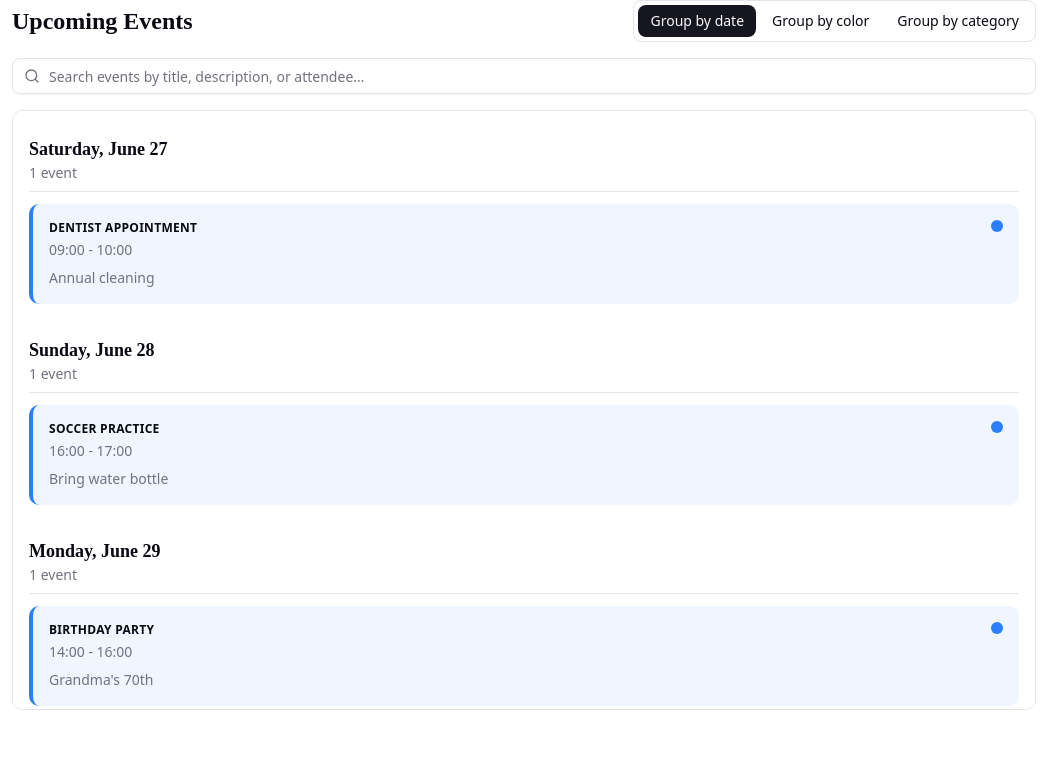
AgendaCalendar › Search › shows a 'no matches' empty state when the query filters out every event
Type "nothing-matches-this" into the search field with placeholder "Search events by title, description, or attendee…" at (524, 76), box [12,58,1036,94]
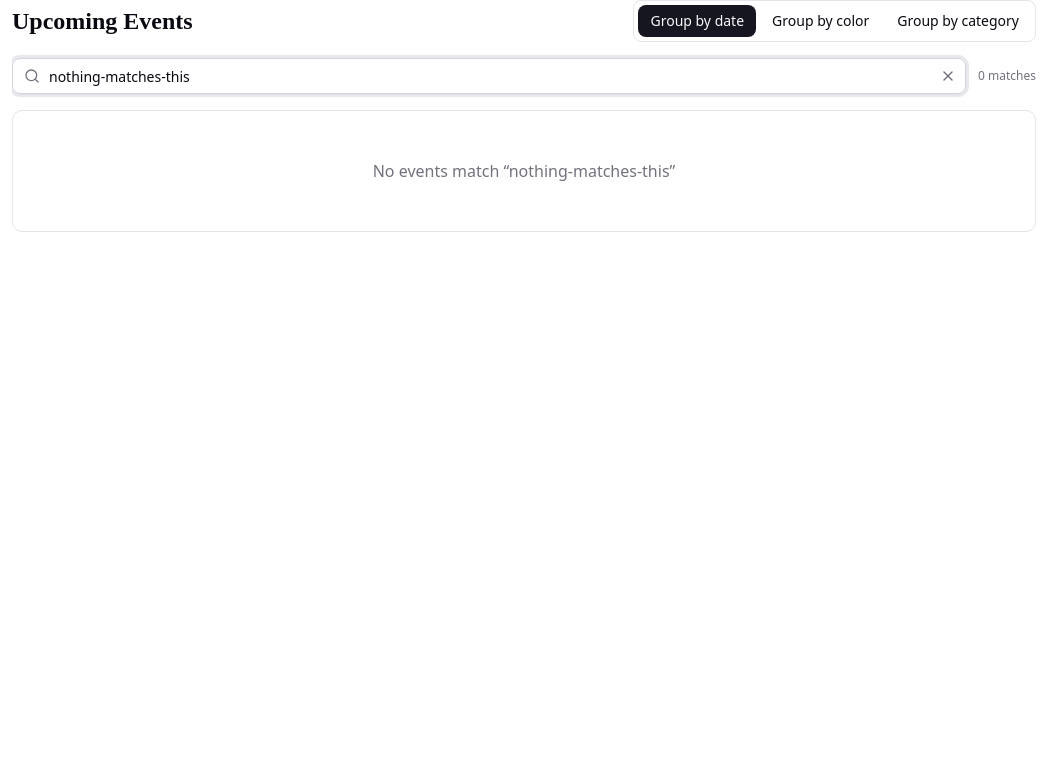
Expected: the text "No events match “nothing-matches-this”" is shown, [373,160,675,182]
Expected: the button "Dentist Appointment" is gone
